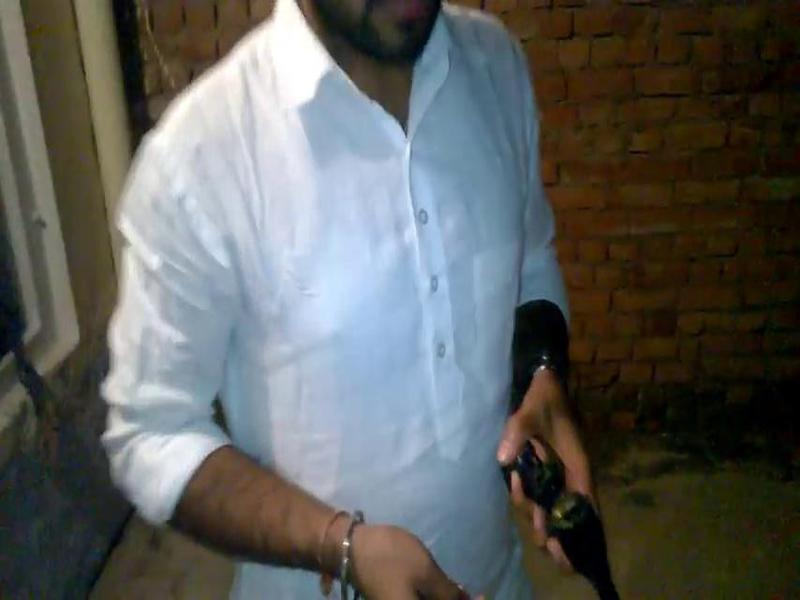Revolver: (470, 397, 661, 600)
